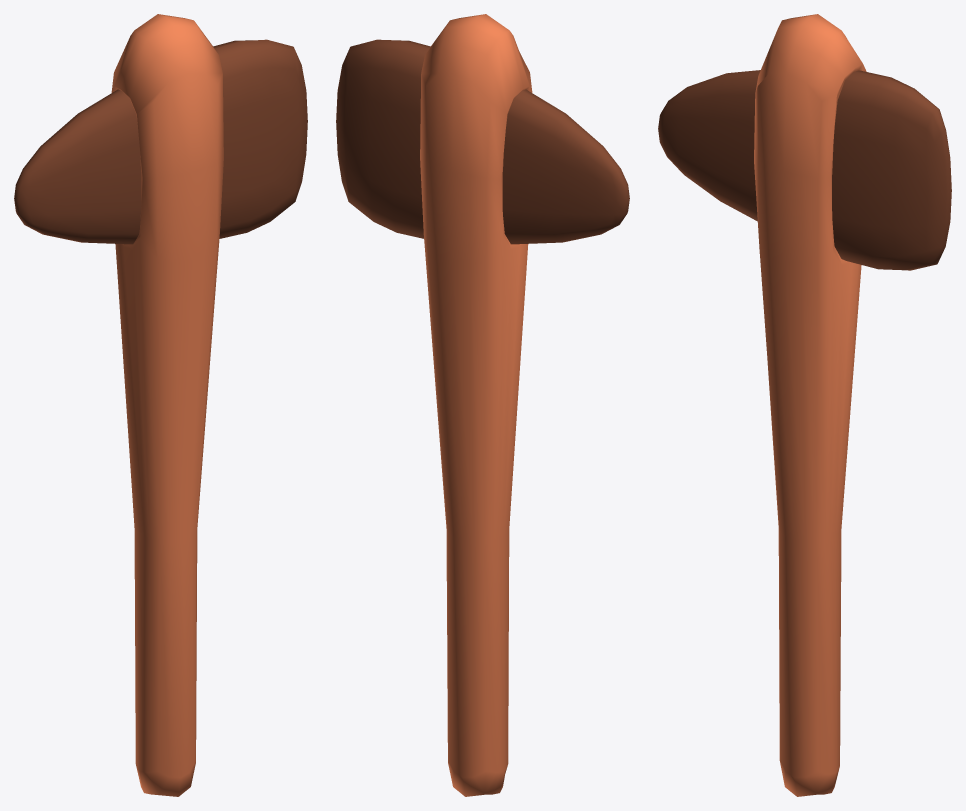
The model's file is Stone_Axe.fbx.
3 views of the same model, side by side, from view 1: azimuth 30°, elevation 25°; view 2: azimuth 150°, elevation 25°; view 3: azimuth 330°, elevation 25° (orthographic).
Visible parts, largest first — view 1: Stone_Axe; view 2: Stone_Axe; view 3: Stone_Axe.
Part boxes in pixels (left/top/right/bottom): Stone_Axe: left=14, top=14, right=307, bottom=796; Stone_Axe: left=336, top=14, right=629, bottom=796; Stone_Axe: left=658, top=14, right=951, bottom=796.
Size of the model in its own units: 0.1889 by 0.4774 by 0.0579.
